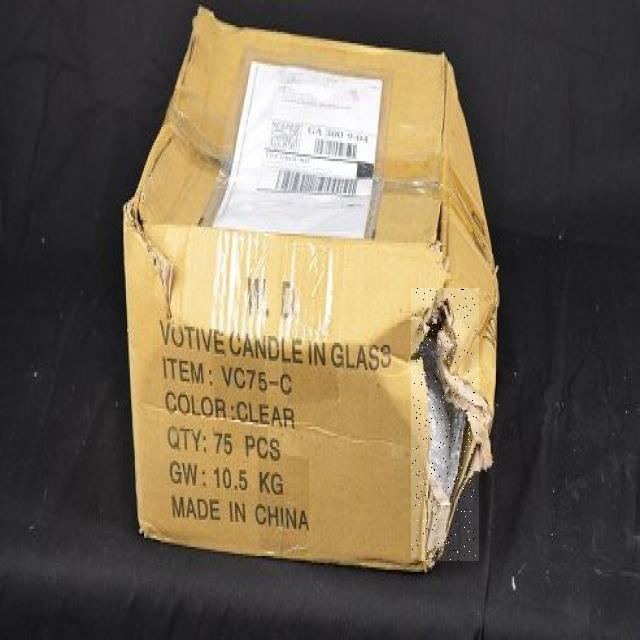tear: (411, 289, 477, 561)
